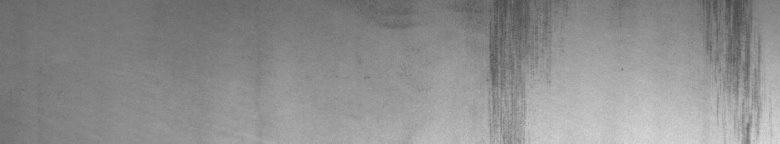ka: (700, 4, 763, 136)
